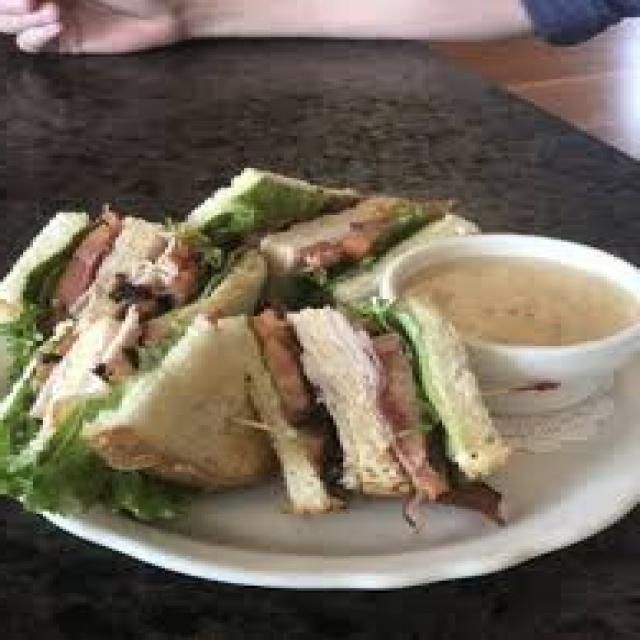Sandwich: (4, 153, 502, 559)
